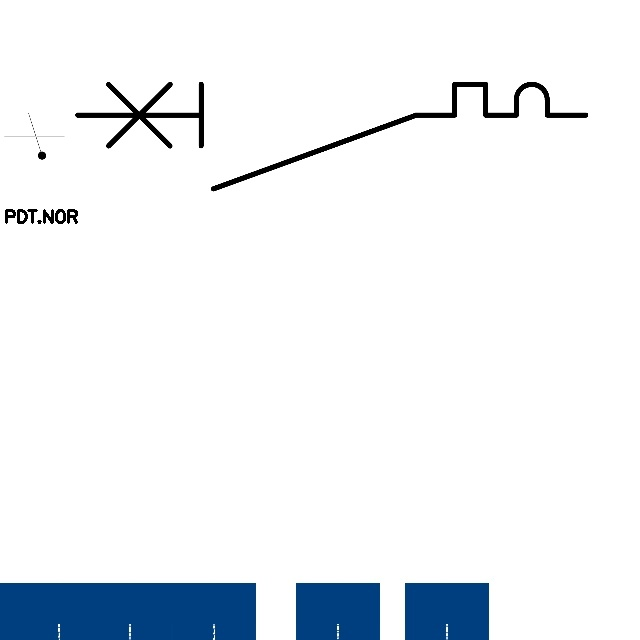interruptor_termomagnetico: (64, 71, 599, 202)
